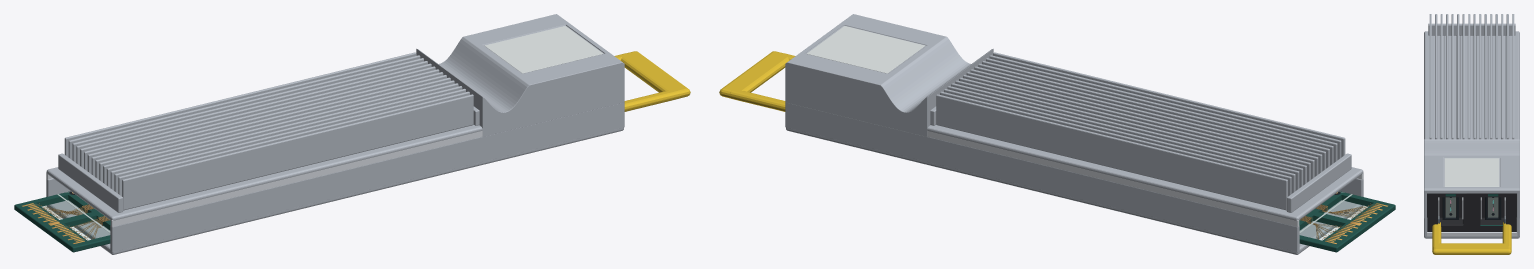
Rendered from osfp-module-runtime.glb.
The picture shows the model from 3 angles, left to right: view 1: azimuth 30°, elevation 25°; view 2: azimuth 150°, elevation 25°; view 3: azimuth 270°, elevation 25°; orthographic projection. The views are drawn at different scales.
Visible parts, largest first — view 1: 04_COVER 01 | Satin nickel aluminium, 01_BASE, 04_COVER optical nose, 04_COVER, PART_BOARD, 05_PULL_TAB, LPO_BYPASS 06 | Copper circuitry, PART_FINGERS; view 2: 04_COVER 01 | Satin nickel aluminium, 01_BASE, 04_COVER optical nose, 04_COVER, PART_BOARD, 05_PULL_TAB, LPO_BYPASS 06 | Copper circuitry, PART_FINGERS, 02_BOARD PCB breakout laminate, revealed layers; view 3: 04_COVER 01 | Satin nickel aluminium, 04_COVER optical nose, MPO bezel, 04_COVER, 05_PULL_TAB, 01_BASE, PART_MPO 10 | Connector ferrule, MPO receptacle 1, MPO receptacle 2, PART_MPO 02 | Machined edge highlights, MPO sleeve 1, MPO sleeve 2.
Part boxes in pixels (<box>): 04_COVER 01 | Satin nickel aluminium: <box>46,52,483,220</box>; 01_BASE: <box>46,102,624,254</box>; 04_COVER optical nose: <box>416,14,624,136</box>; 04_COVER: <box>46,26,602,226</box>; PART_BOARD: <box>14,191,110,252</box>; 05_PULL_TAB: <box>614,51,690,111</box>; LPO_BYPASS 06 | Copper circuitry: <box>32,203,109,239</box>; PART_FINGERS: <box>22,203,84,243</box>; 04_COVER 01 | Satin nickel aluminium: <box>926,52,1363,220</box>; 01_BASE: <box>785,102,1363,254</box>; 04_COVER optical nose: <box>785,14,993,136</box>; 04_COVER: <box>807,26,1363,226</box>; PART_BOARD: <box>1299,191,1395,252</box>; 05_PULL_TAB: <box>719,51,795,111</box>; LPO_BYPASS 06 | Copper circuitry: <box>1300,203,1377,239</box>; PART_FINGERS: <box>1325,203,1387,243</box>; 02_BOARD PCB breakout laminate, revealed layers: <box>1300,201,1361,239</box>; 04_COVER 01 | Satin nickel aluminium: <box>1424,14,1519,139</box>; 04_COVER optical nose: <box>1424,139,1519,218</box>; MPO bezel: <box>1427,193,1516,231</box>; 04_COVER: <box>1444,158,1499,186</box>; 05_PULL_TAB: <box>1432,216,1511,254</box>; 01_BASE: <box>1424,218,1519,238</box>; PART_MPO 10 | Connector ferrule: <box>1445,197,1498,217</box>; MPO receptacle 1: <box>1438,197,1463,224</box>; MPO receptacle 2: <box>1480,197,1505,224</box>; PART_MPO 02 | Machined edge highlights: <box>1438,197,1505,219</box>; MPO sleeve 1: <box>1442,197,1458,219</box>; MPO sleeve 2: <box>1485,197,1501,219</box>.
Size of the model in its own units: 0.1221 by 0.013 by 0.0226.
